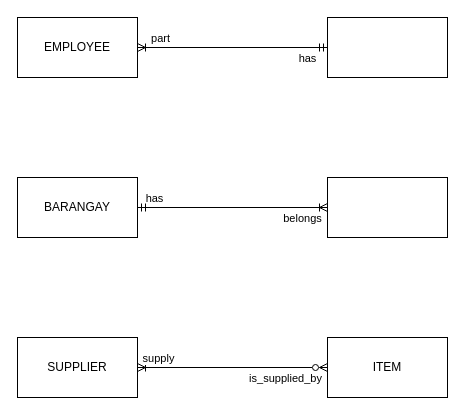
Some shapes in this 465 by 415 pixel diagram are drawn without their labels. Each missing label, with the centre of its shape:
CITIZEN: [387,207]
PROJECT: [387,47]
